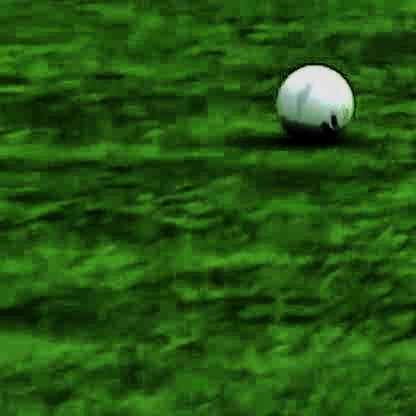golfball: (277, 55, 351, 135)
